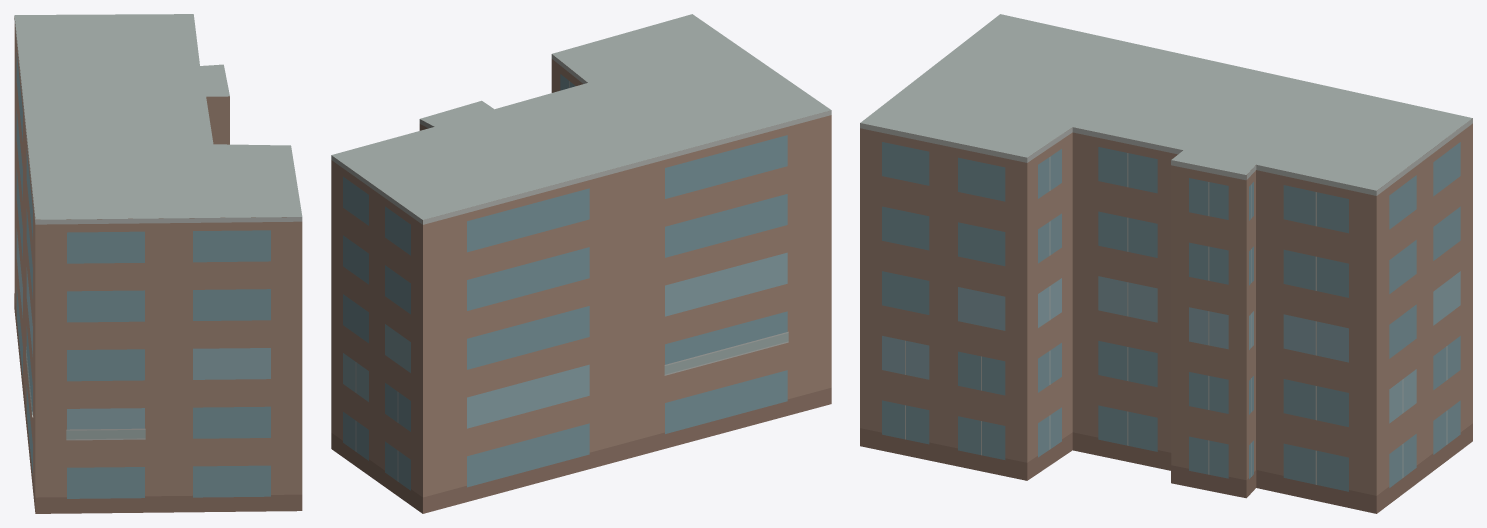
File: survey-upis-32969662.glb
3 views of the same model, side by side, from view 1: azimuth 30°, elevation 25°; view 2: azimuth 150°, elevation 25°; view 3: azimuth 270°, elevation 25° (orthographic). The views are drawn at different scales.
Parts seen in each view (by area): view 1: survey-upis-32969662.tmp; view 2: survey-upis-32969662.tmp; view 3: survey-upis-32969662.tmp.
Boxes of the visible parts, x1,y1,x2,y2 form: survey-upis-32969662.tmp: (14, 14, 302, 513); survey-upis-32969662.tmp: (331, 14, 831, 513); survey-upis-32969662.tmp: (860, 14, 1472, 513).
Size of the model in its own units: 17.48 by 14.9 by 25.61.
